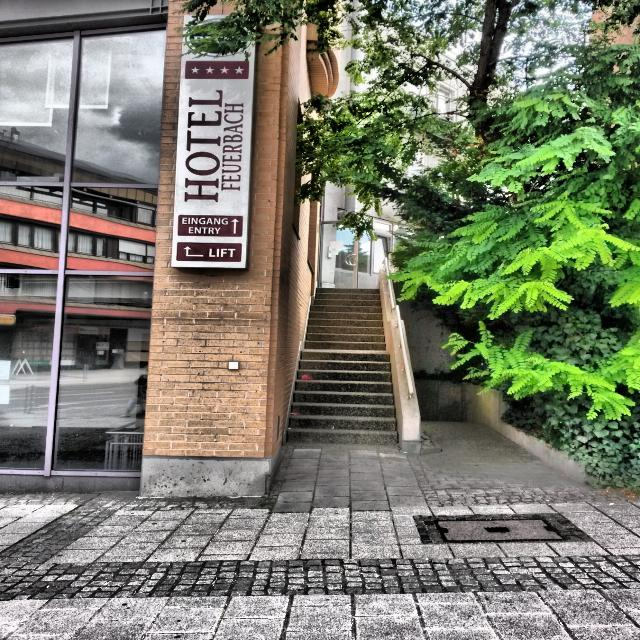escada: (286, 286, 400, 449)
